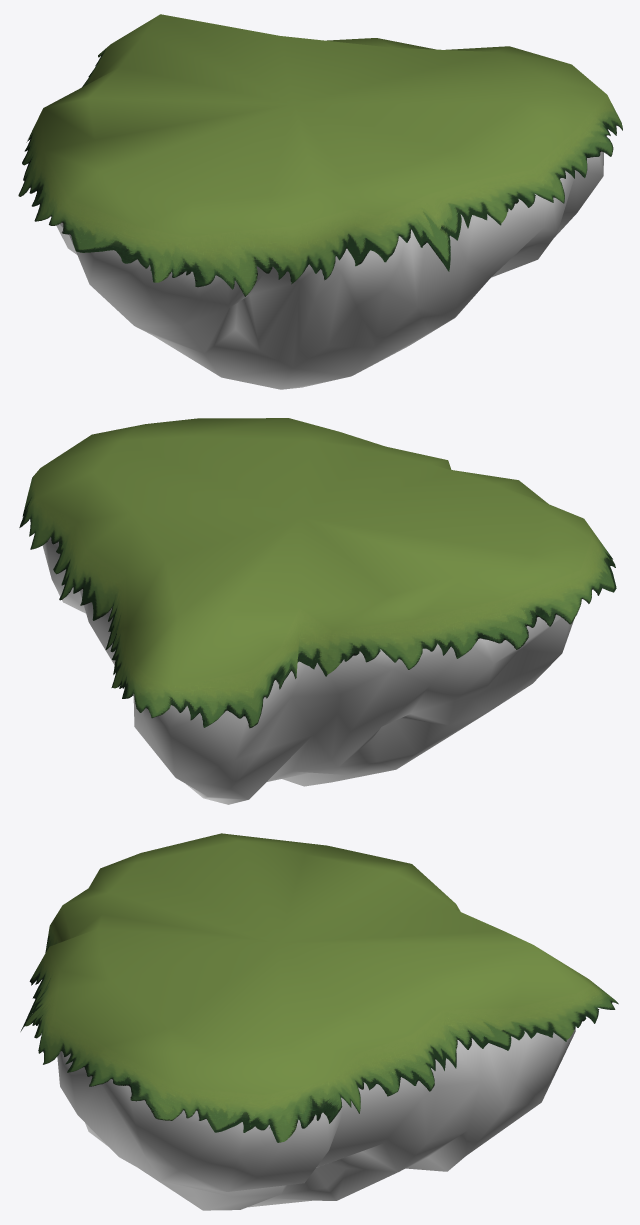
Rendered from Island_Small_04.fbx.
3 views of the same model, one above another, from view 1: azimuth 30°, elevation 25°; view 2: azimuth 150°, elevation 25°; view 3: azimuth 270°, elevation 25° (orthographic).
Visible parts, largest first — view 1: Island_Small_04; view 2: Island_Small_04; view 3: Island_Small_04.
Part boxes in pixels (x1,y1,x2,y2): Island_Small_04: (18,14,622,389); Island_Small_04: (19,418,616,804); Island_Small_04: (20,833,618,1210).
Size of the model in its own units: 933 by 411 by 886.
